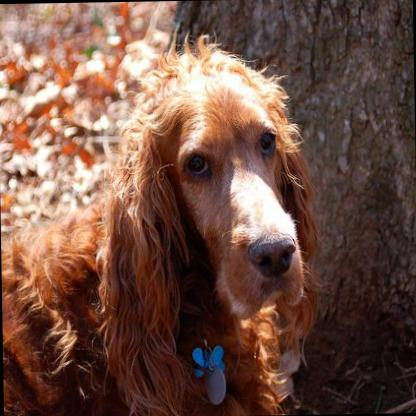Irish_setter: (0, 28, 321, 415)
